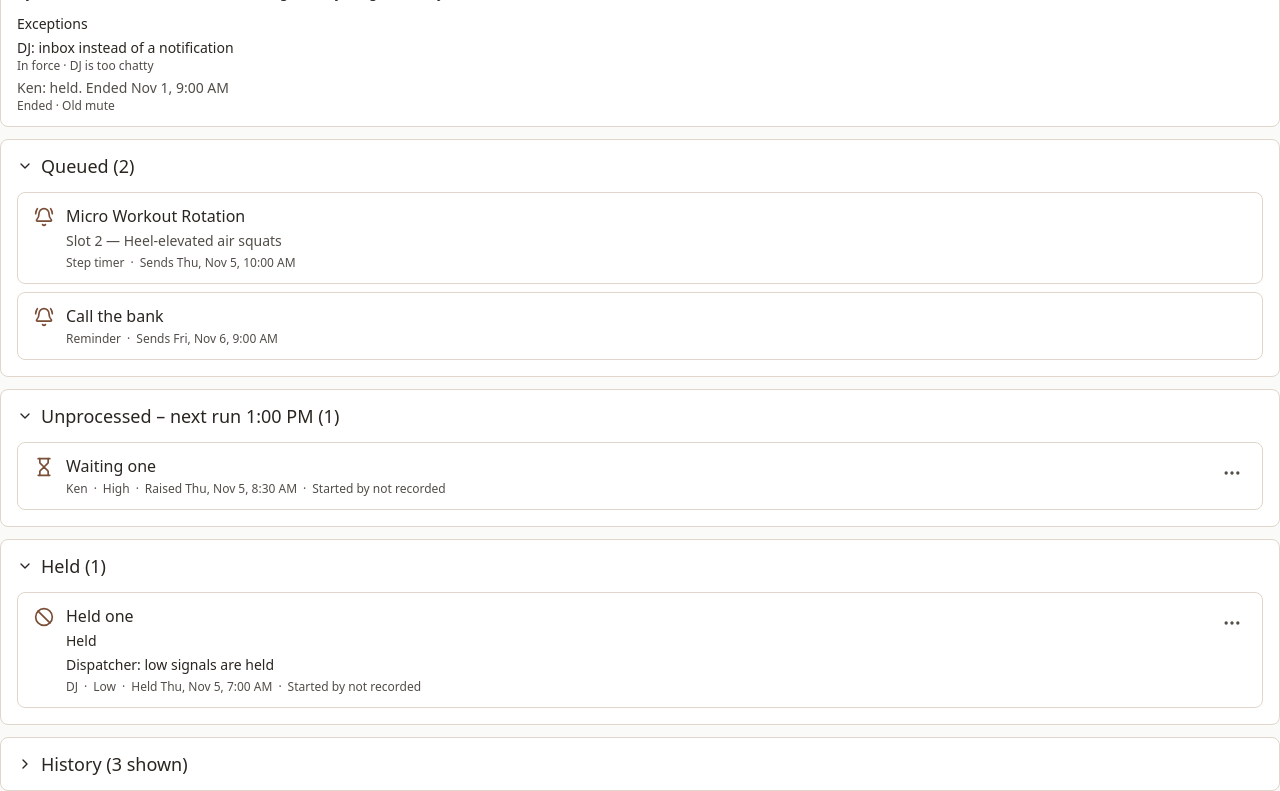
Test case: populated: queued, unprocessed, held and history read in plain words
The width and height of the screenshot is (1280, 791).
(page scrolled)
Check: the heading "Exceptions" is shown, box [17,14,88,33]
Check: the text "DJ: inbox instead of a notification" is shown, box [17,38,234,57]
Click the button "History (3 shown)": (102, 764) [17,742,188,786]
(page scrolled)
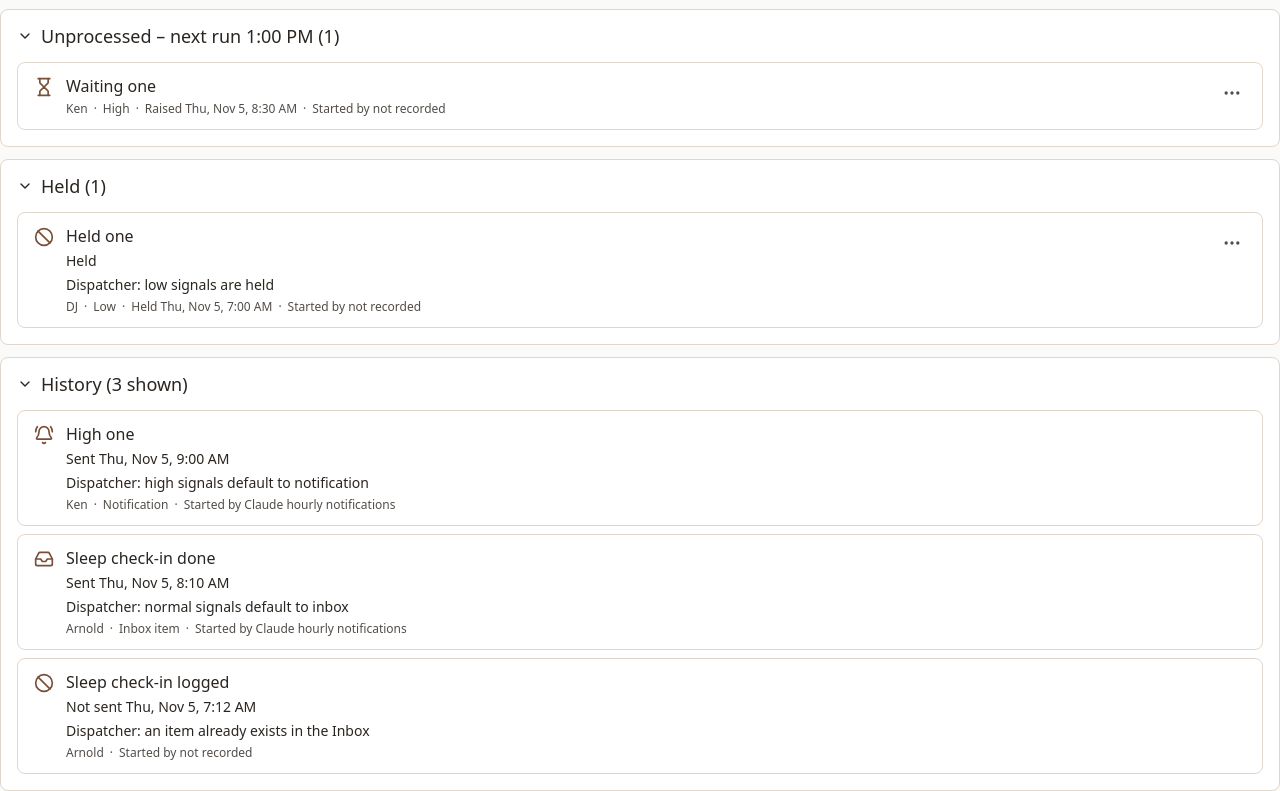
Check: the text "Dispatcher: high signals default to notification" is shown, box [66,473,369,492]
Check: the text "Sent Thu, Nov 5, 8:10 AM" is shown, box [66,573,230,592]
Check: the text "Started by Claude hourly notifications" is shown, box [195,621,407,637]
